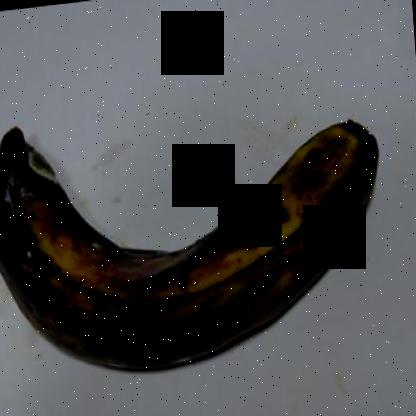rotten: (1, 108, 374, 388)
